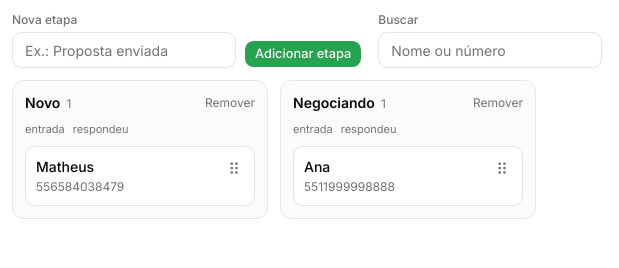
Test: papel da etapa › avisa quando definir o papel falha
The width and height of the screenshot is (619, 268).
Click the button with aria-label "Usar Novo como entrada" at (45,129), box [25, 121, 65, 138]
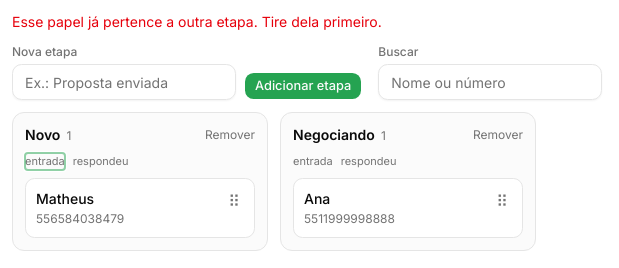
Now the message shows "já pertence a outra etapa", box [12, 13, 382, 30]
